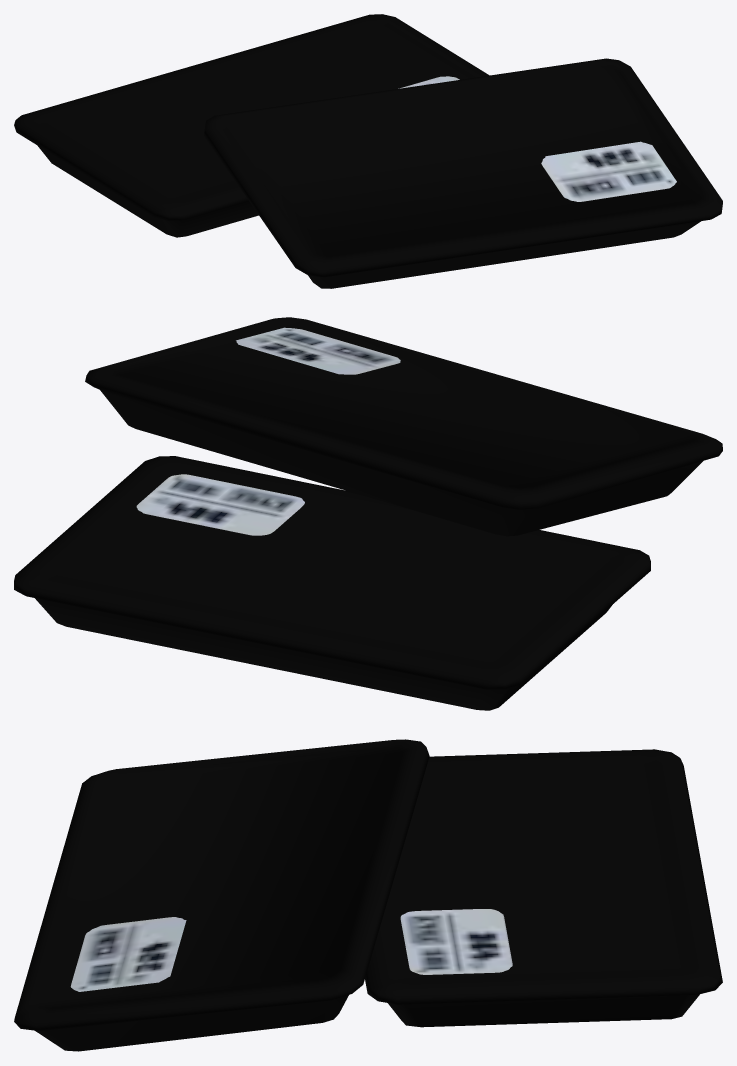
The picture shows the model from 3 angles, top to bottom: view 1: azimuth 30°, elevation 25°; view 2: azimuth 150°, elevation 25°; view 3: azimuth 270°, elevation 25°; orthographic projection. The views are drawn at different scales.
Bounding box in the file's own units: 9.14 × 1.66 × 9.39.
2 materials, 2 textured.
